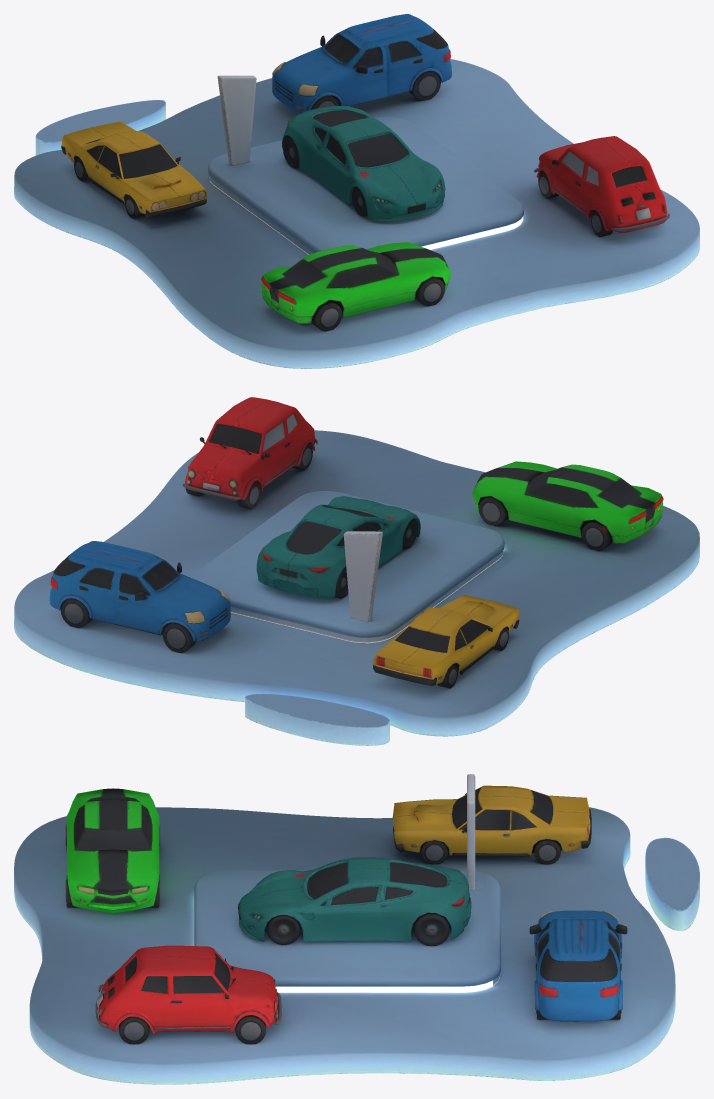
Rendered from leviSpace.glb.
3 views of the same model, one above another, from view 1: azimuth 30°, elevation 25°; view 2: azimuth 150°, elevation 25°; view 3: azimuth 270°, elevation 25° (orthographic). The views are drawn at different scales.
Visible parts, largest first — view 1: LeviSpace; view 2: LeviSpace; view 3: LeviSpace.
Boxes of the visible parts, <box> form: LeviSpace: <box>14,14,699,368</box>; LeviSpace: <box>14,397,699,745</box>; LeviSpace: <box>14,774,699,1084</box>.
Bounding box in the file's own units: 12.17 × 2.95 × 13.54.
Materials: 2 (1 with a texture image).
